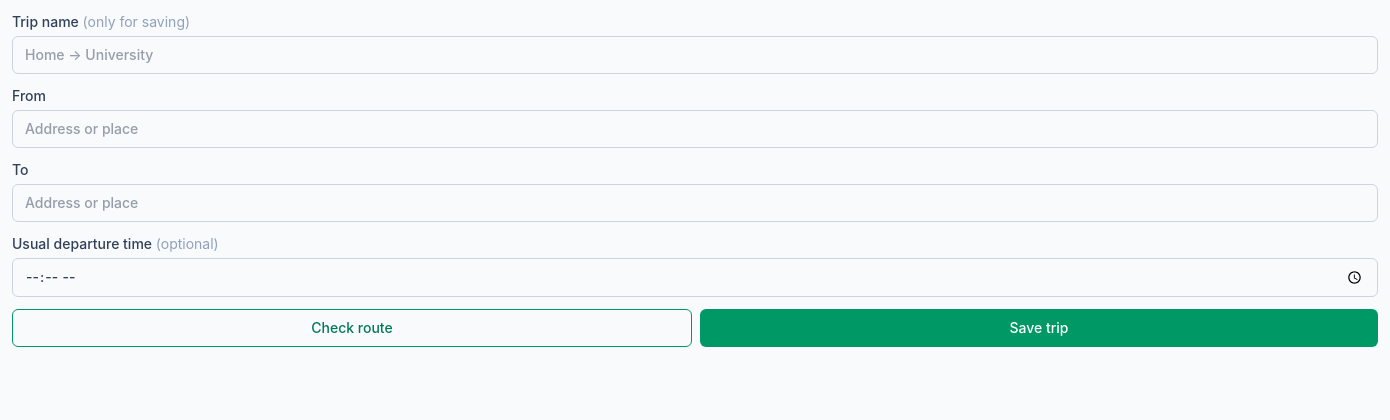
it: AddTripForm › Check route (without saving) › names the address that wasn't found
The image size is (1390, 420).
Type "Gdansk Glowny" into the field labelled "From" at (695, 129), box [12,110,1378,148]
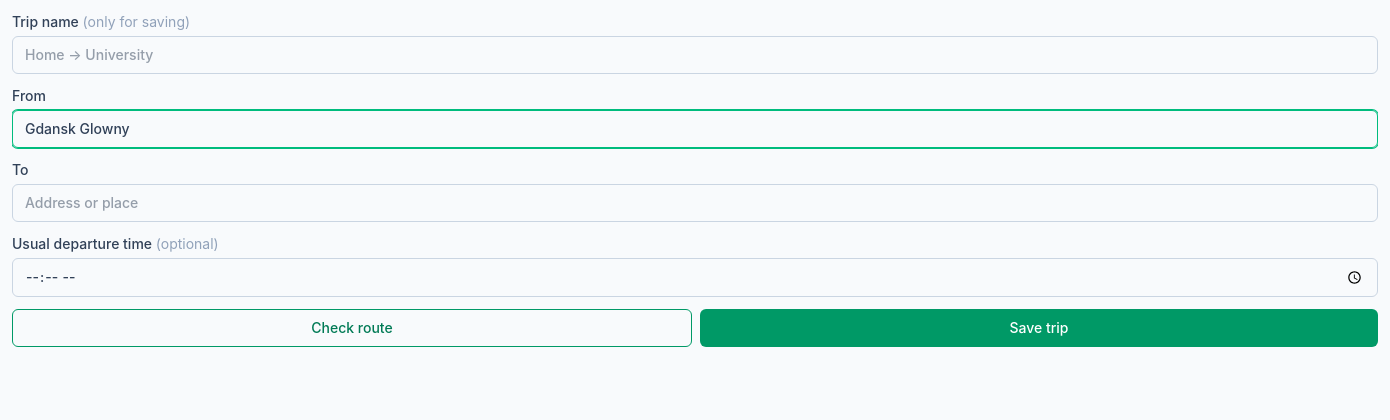
Type "Atlantis 9" into the field labelled "To" at (695, 203), box [12,184,1378,222]
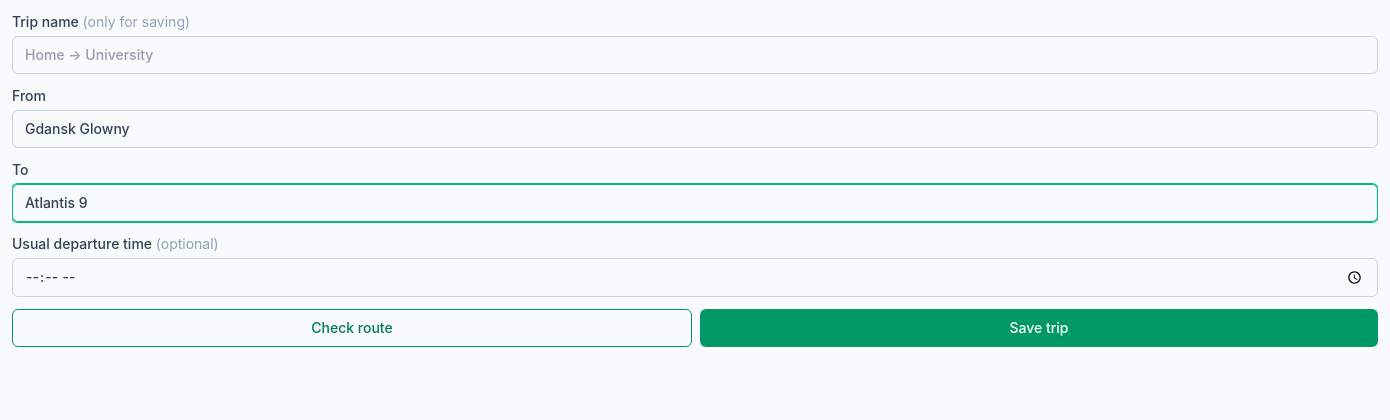
Click the button "Check route" at (352, 328), box [12,309,692,347]
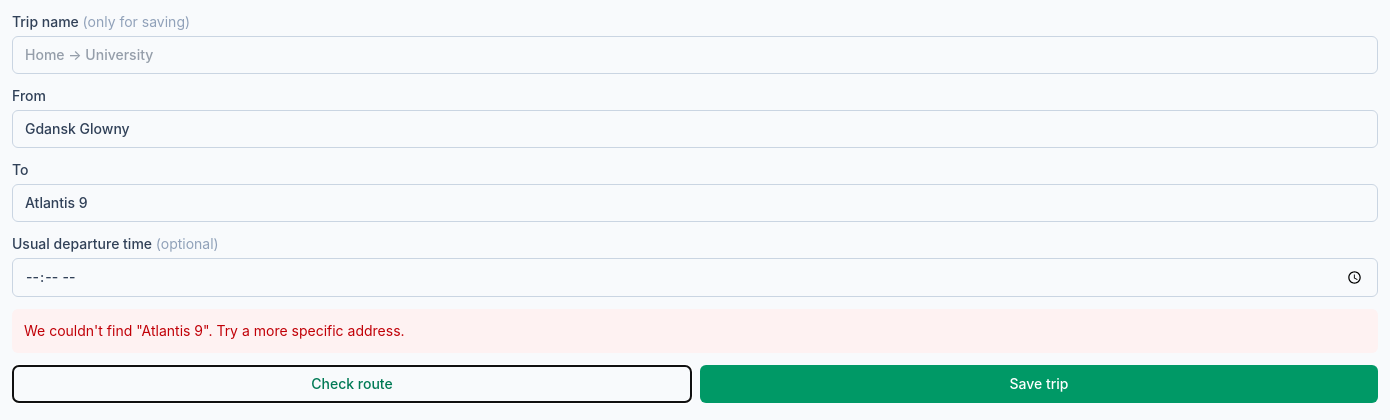
Now the message shows "couldn't find \"Atlantis 9\"", box [24,322,405,339]
